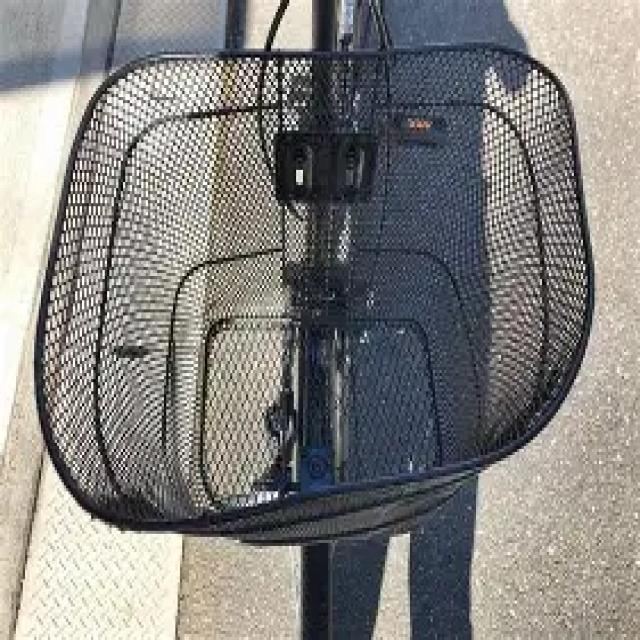basket: (28, 50, 592, 548)
